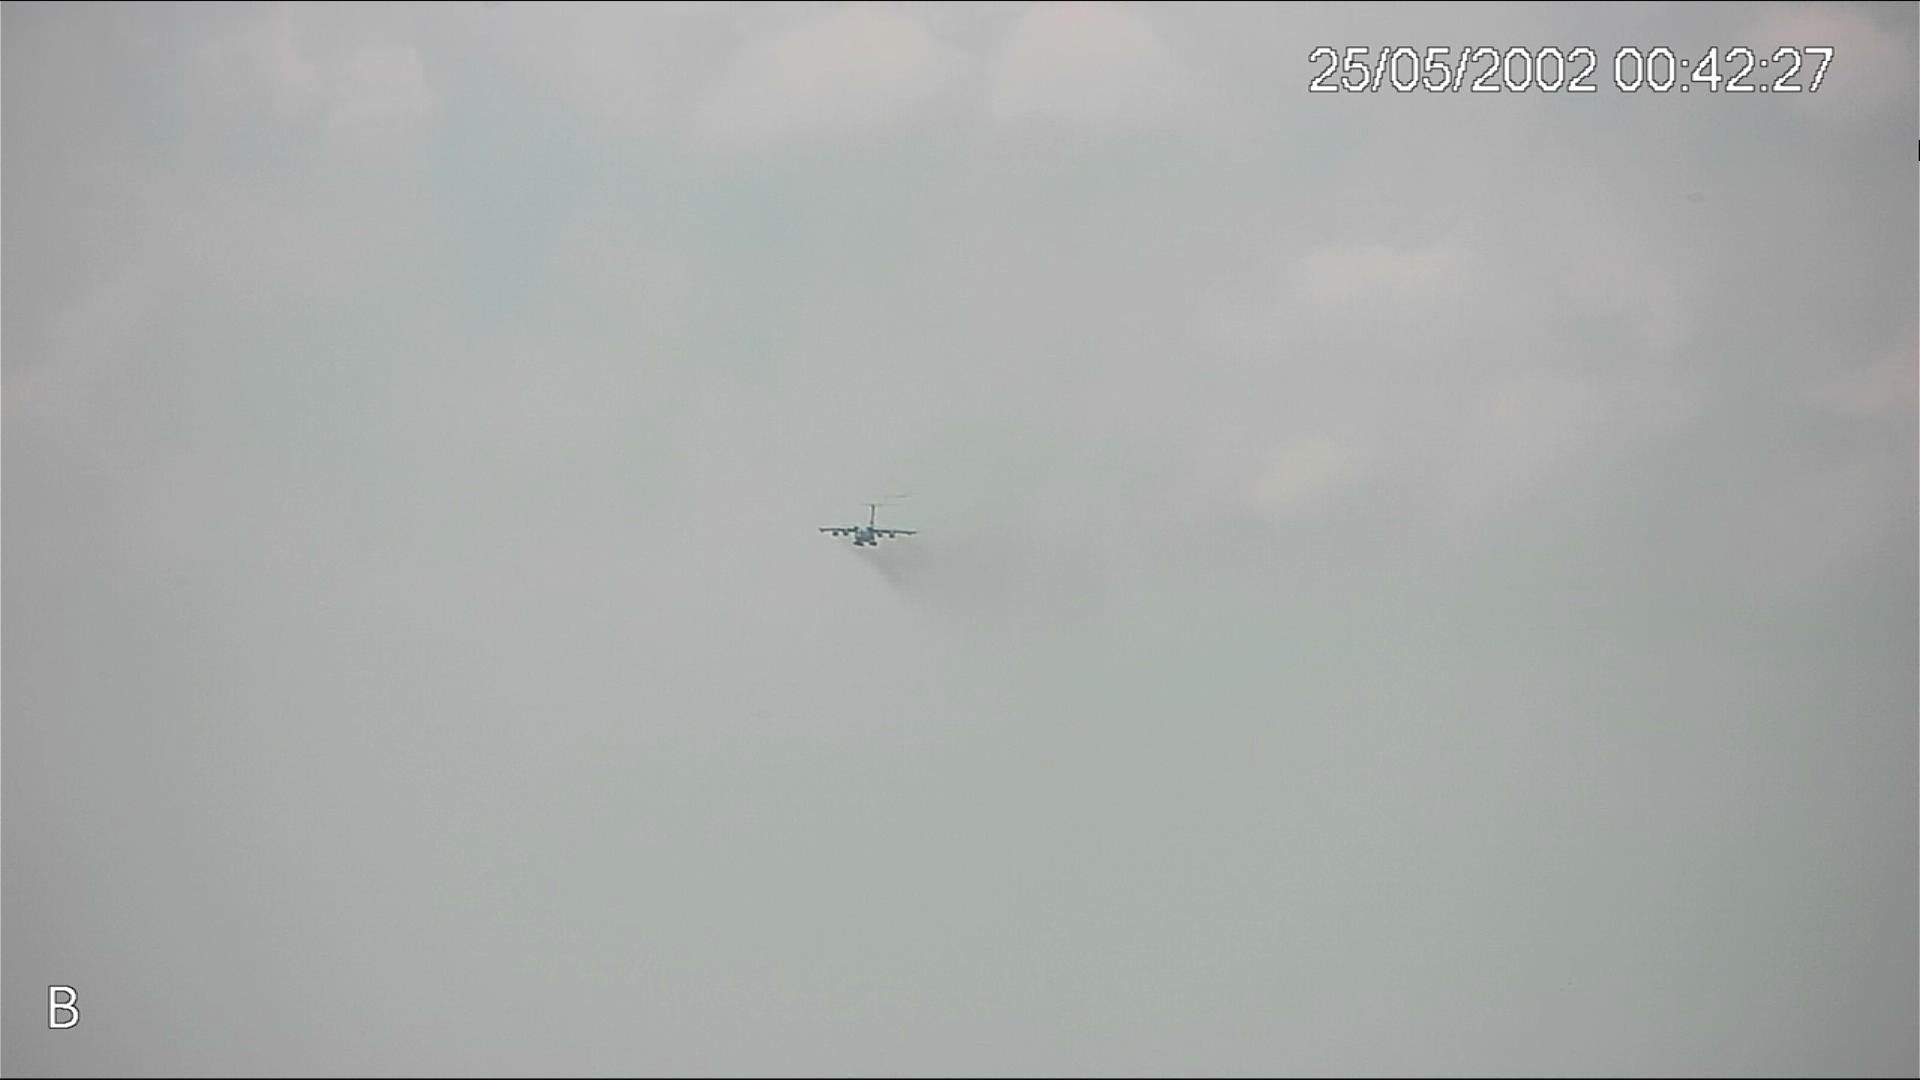SU_30: (816, 498, 916, 553)
